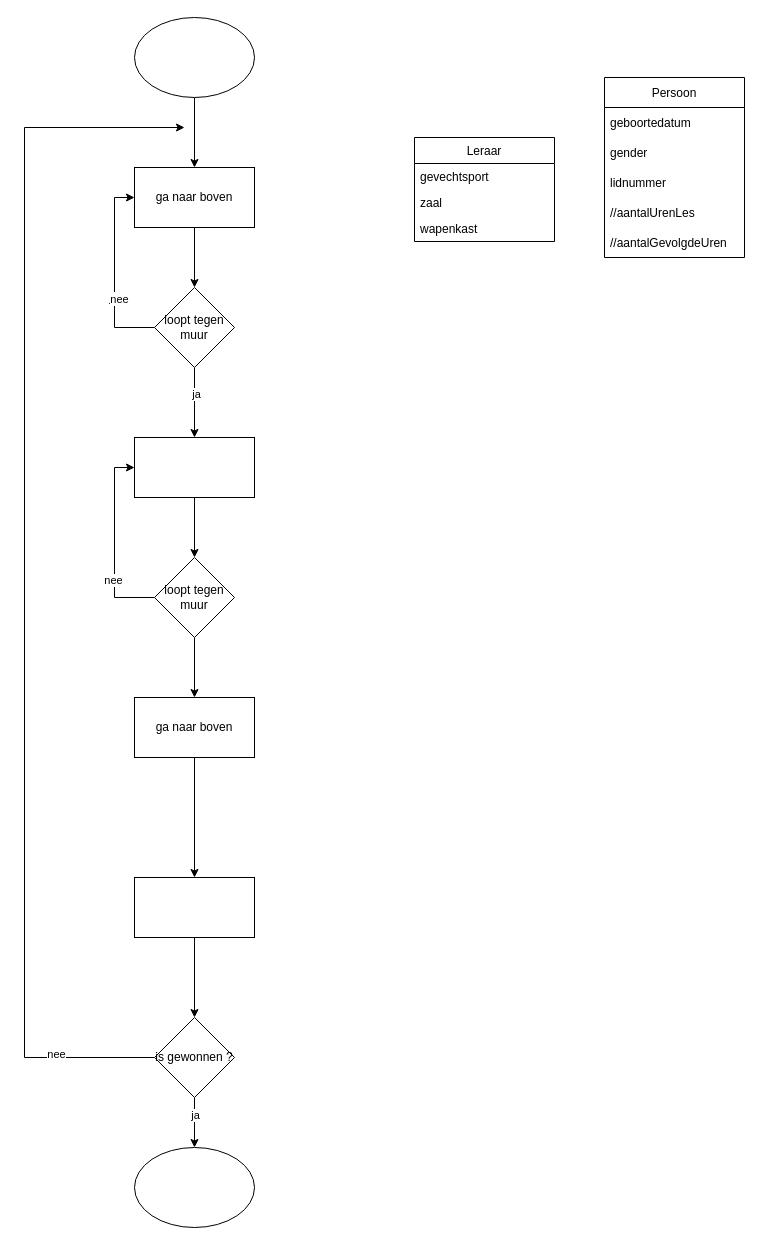
Image size: 762x1245. Some labels were removed from this diagram. The centre of each missing label's shape, as x and y in pixels:
"Einde" belongs at pixel 194 1187.
"ge rechts" belongs at pixel 194 467.
"Start" belongs at pixel 194 57.
"vecht met beest" belongs at pixel 194 907.
